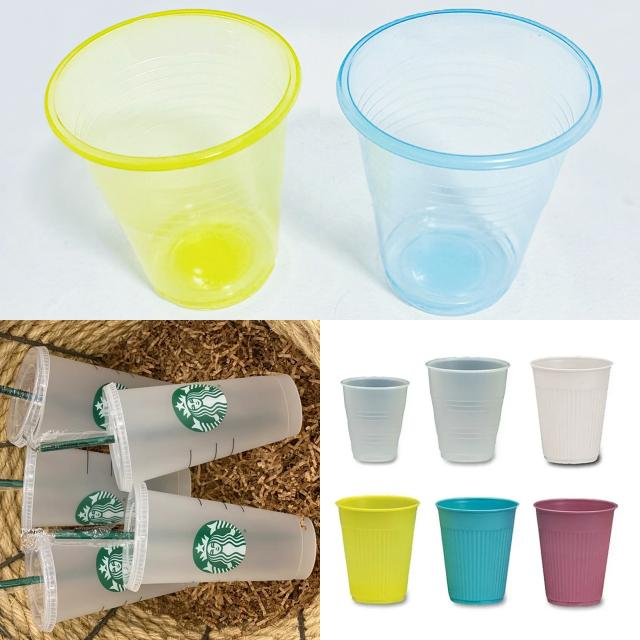Single-Use-Plastic: (338, 10, 601, 315), (45, 10, 301, 310), (102, 375, 302, 491), (122, 482, 316, 591), (22, 530, 186, 631), (8, 346, 164, 449), (336, 495, 419, 603), (534, 499, 618, 605), (21, 448, 128, 531), (436, 498, 519, 604), (531, 356, 612, 464), (426, 358, 509, 462), (341, 376, 409, 462)
